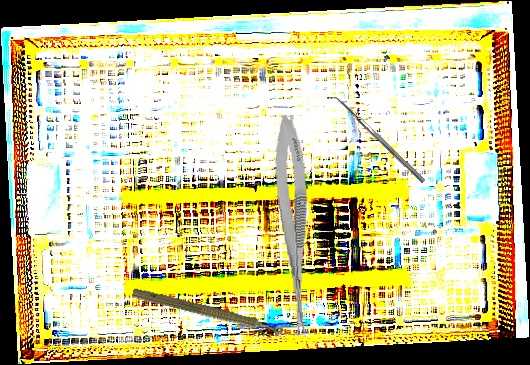Handpiece: (130, 285, 284, 341)
Micro Scissor: (269, 114, 321, 338)
Spatula Surgical: (326, 90, 426, 188)
